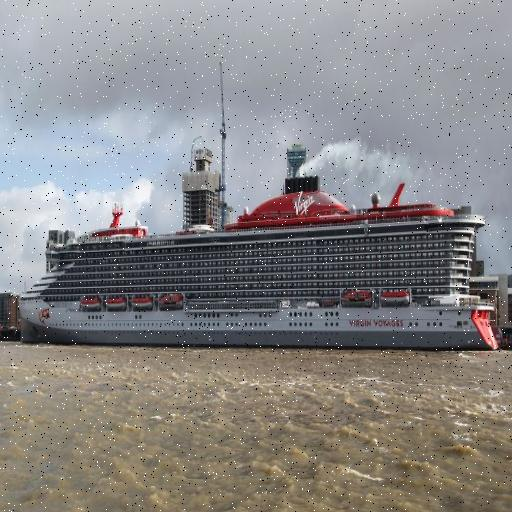cruises: (13, 169, 503, 359)
